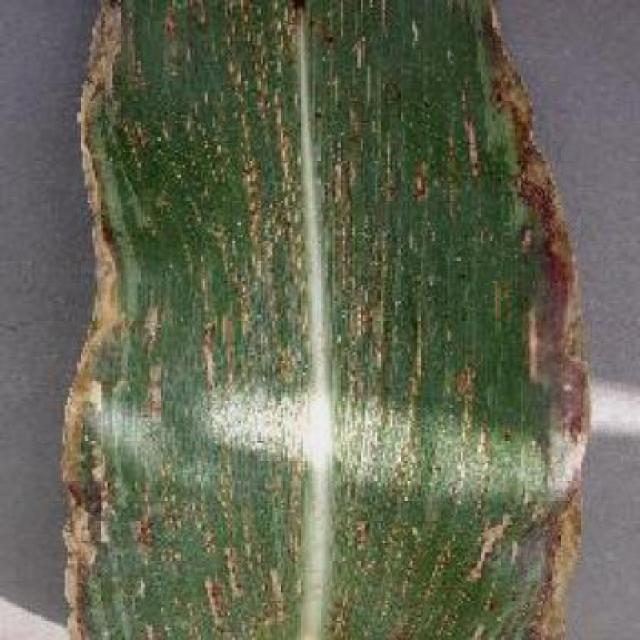Corn_Grey_Leaf_Spot: (86, 9, 569, 640)
